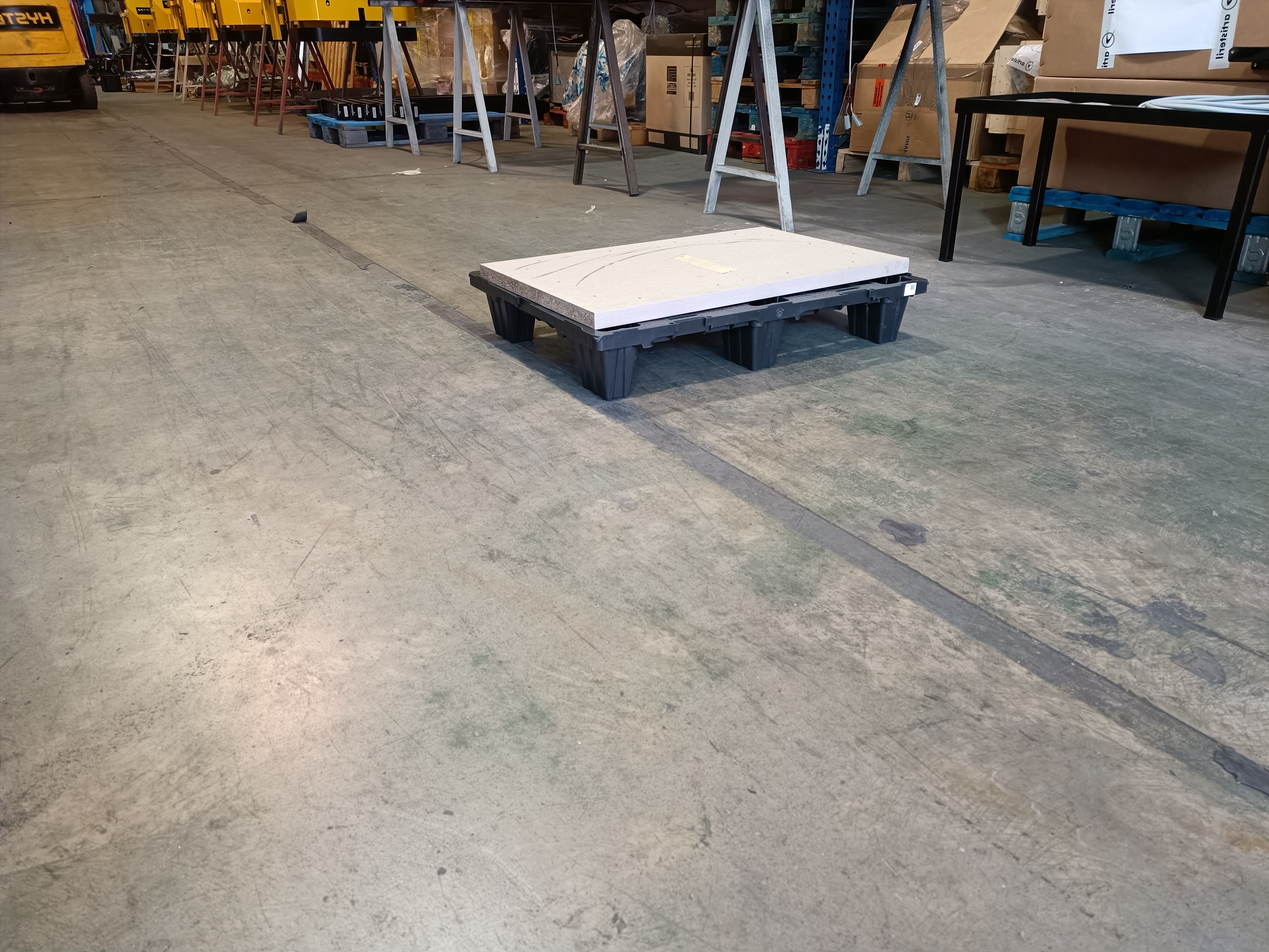block: (566, 344, 641, 403), (717, 317, 787, 367), (846, 296, 911, 343), (486, 299, 531, 344)
front: (598, 274, 926, 412)
hole pallet: (625, 326, 745, 397), (780, 303, 871, 359)
